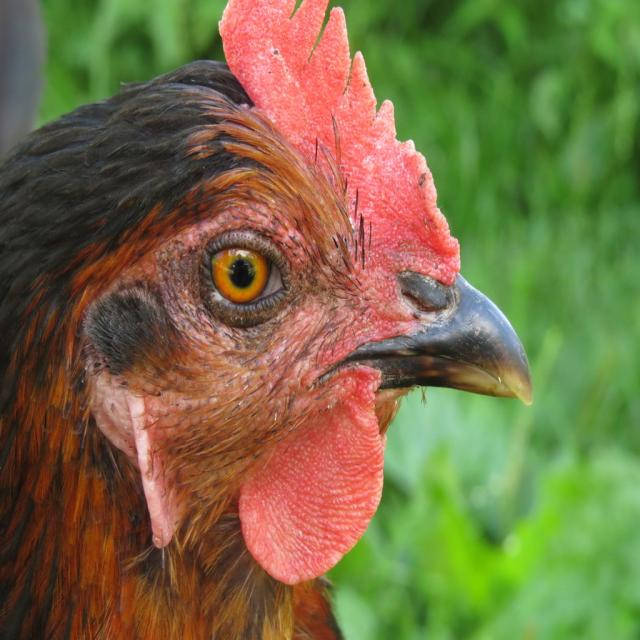Chicken: (1, 0, 534, 639)
